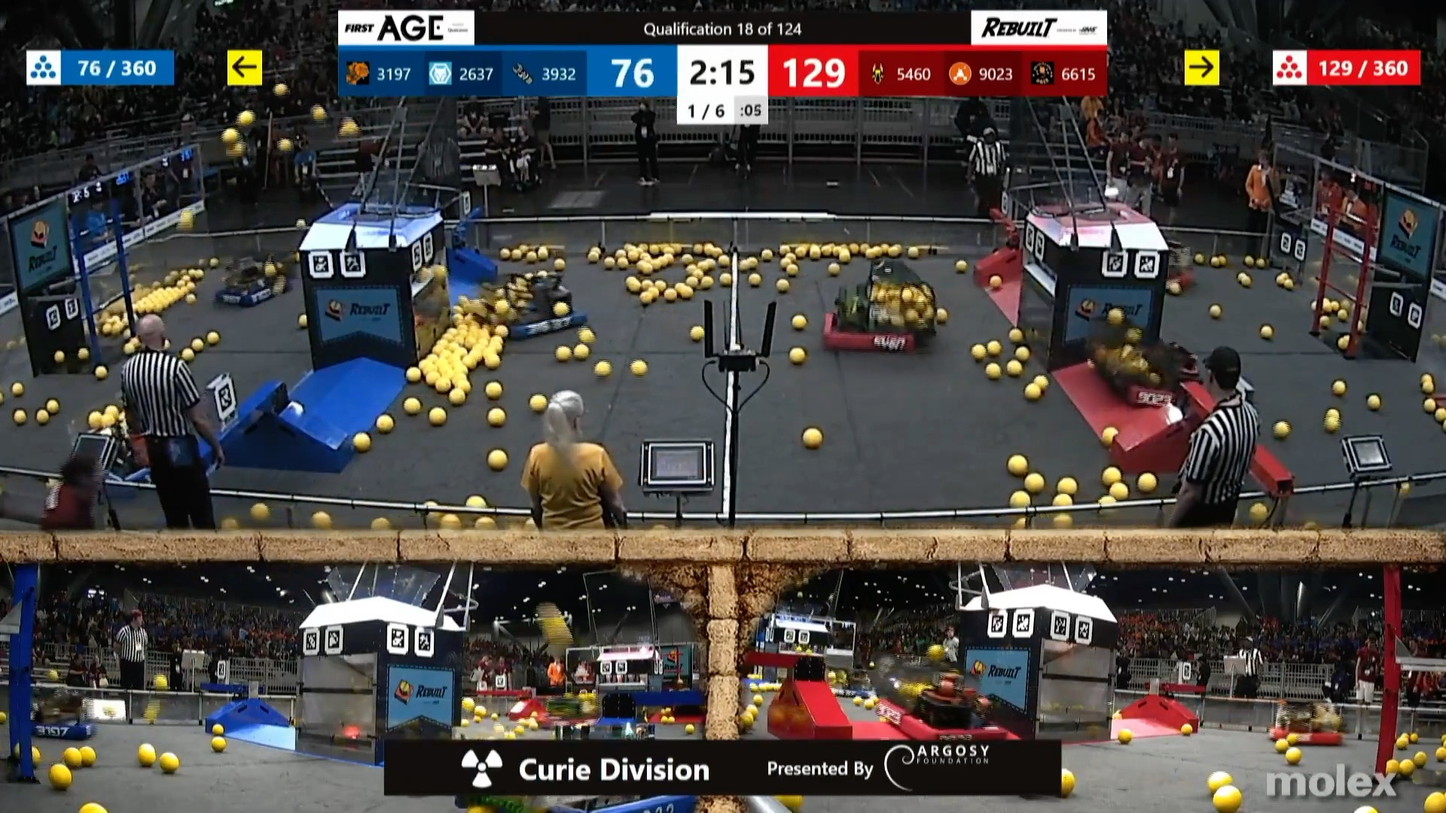bumpers: (1089, 349, 1209, 417), (815, 306, 925, 361), (877, 702, 1010, 741), (477, 302, 589, 340), (209, 275, 306, 311), (1261, 711, 1344, 751), (19, 711, 107, 744)
